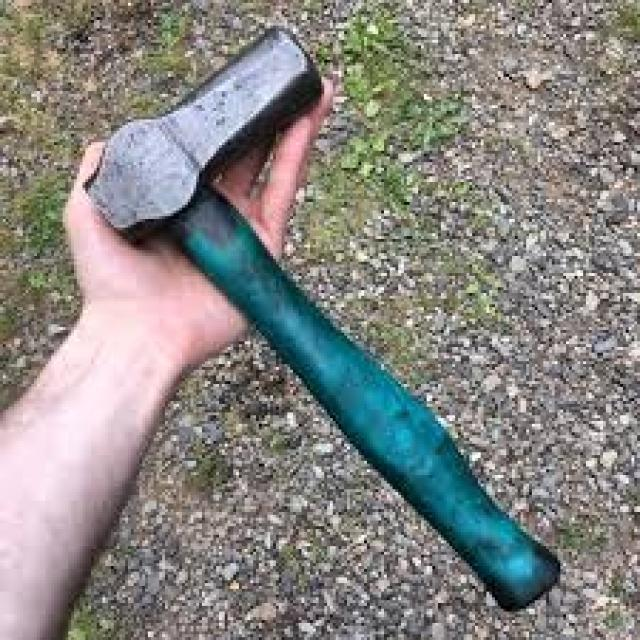hammer: (62, 21, 572, 613)
